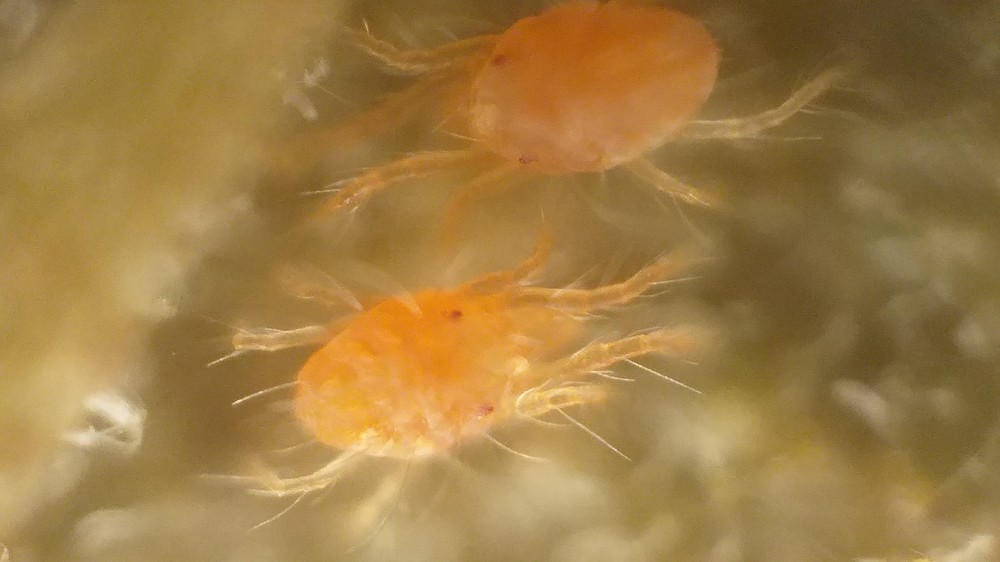Aracnido Rojo: (308, 7, 858, 260), (229, 253, 732, 518)
